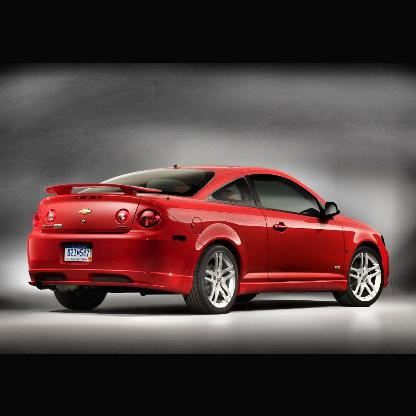Chevrolet Cobalt SS 2010: (27, 164, 392, 316)
